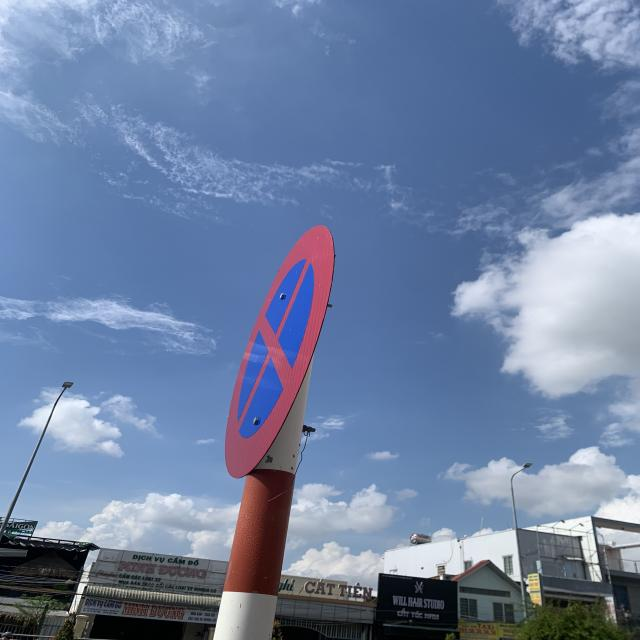Cam_Dung_Va_Dau_Xe: (225, 224, 336, 482)
